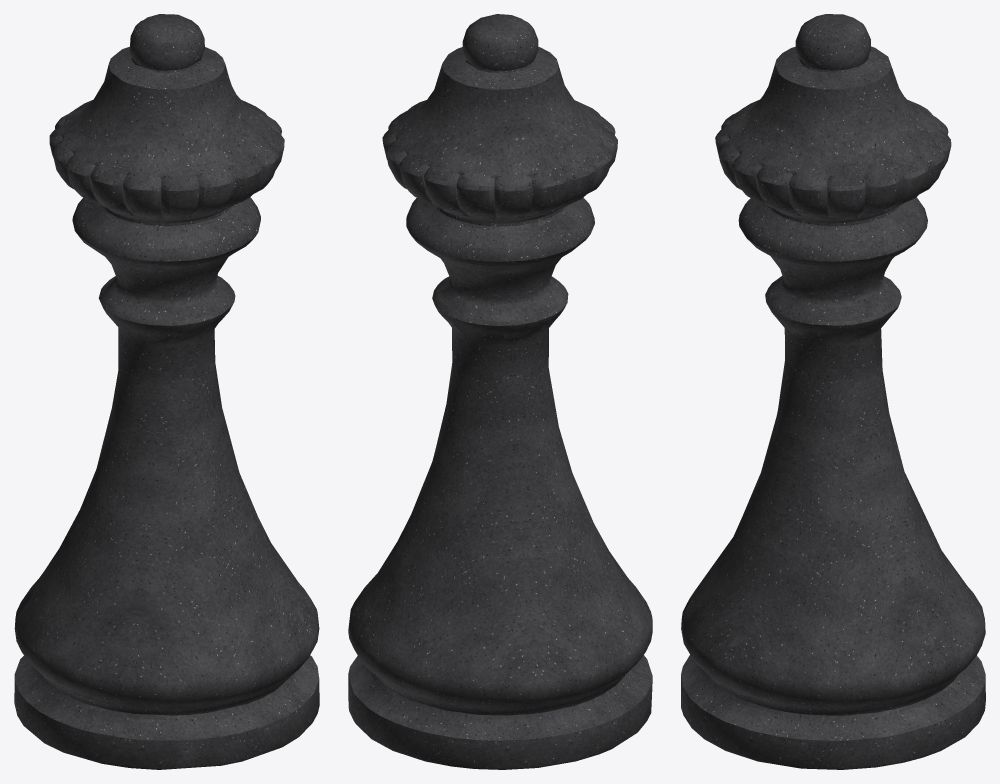
The model's file is queen-black.glb.
3 renders of one model, left to right at view 1: azimuth 30°, elevation 25°; view 2: azimuth 150°, elevation 25°; view 3: azimuth 270°, elevation 25°, orthographic.
Visible parts, largest first — view 1: dama_cerna; view 2: dama_cerna; view 3: dama_cerna.
Boxes of the visible parts, box(x1,y1,x2,y2) form: dama_cerna: box(14, 14, 319, 769); dama_cerna: box(348, 14, 652, 769); dama_cerna: box(681, 14, 985, 769).
Bounding box in the file's own units: 0.5923 × 1.49 × 0.5919.
Materials: 1 (1 with a texture image).
